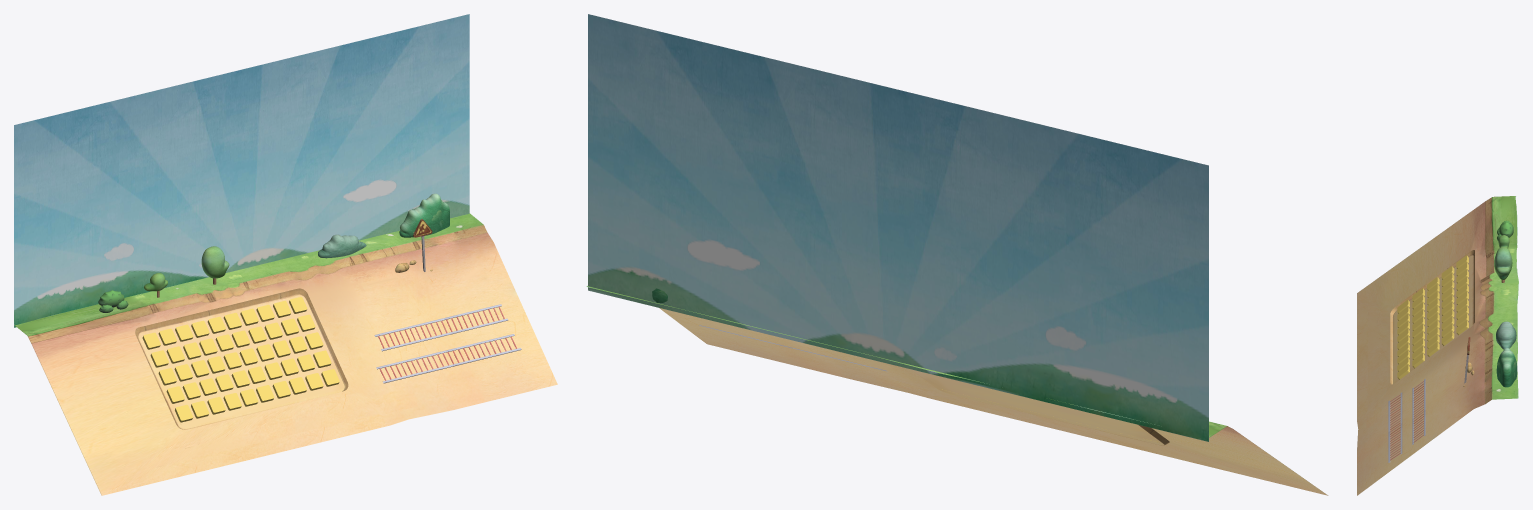
File: huocheguidao.FBX
3 views of the same model, side by side, from view 1: azimuth 30°, elevation 25°; view 2: azimuth 150°, elevation 25°; view 3: azimuth 270°, elevation 25° (orthographic). The views are drawn at different scales.
Parts seen in each view (by area): view 1: 对象293, Cylinder002, 对象065, 对象297, 对象229, 对象296, 对象295; view 2: 对象293, Cylinder002; view 3: Cylinder002, 对象065, 对象297, 对象229, 对象295, 对象296, 对象292.
Part boxes in pixels (box(x1,y1,x2,y2)): 对象293: box(14, 14, 469, 327); Cylinder002: box(14, 213, 557, 495); 对象065: box(376, 334, 521, 383); 对象297: box(399, 193, 449, 237); 对象229: box(374, 304, 508, 351); 对象296: box(318, 234, 366, 258); 对象295: box(201, 246, 229, 284); 对象293: box(588, 14, 1208, 441); Cylinder002: box(586, 286, 1328, 495); Cylinder002: box(1357, 196, 1518, 495); 对象065: box(1388, 392, 1402, 462); 对象297: box(1496, 348, 1517, 387); 对象229: box(1412, 378, 1425, 444); 对象295: box(1494, 247, 1512, 282); 对象296: box(1496, 321, 1516, 349); 对象292: box(1497, 220, 1513, 240).
Size of the model in its own units: 387 by 249 by 131.
Materials: 1 (1 with a texture image).
